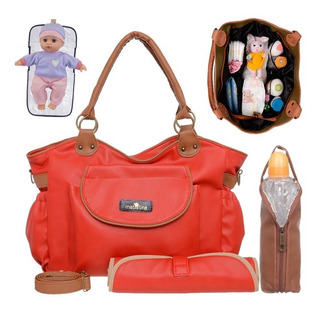cartera: (23, 29, 246, 277)
